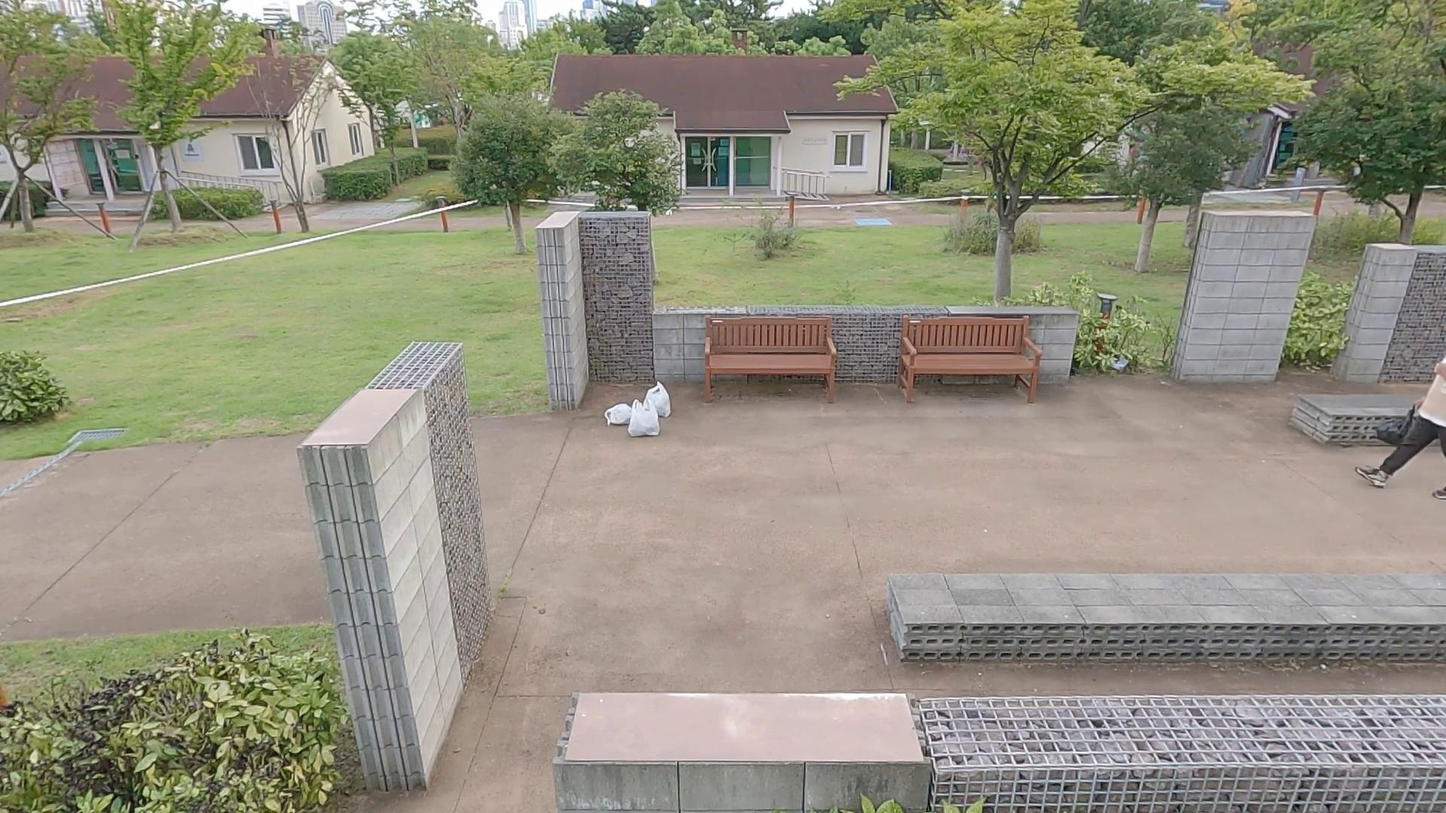trash: (640, 379, 679, 419), (629, 398, 662, 440), (598, 399, 636, 429)
